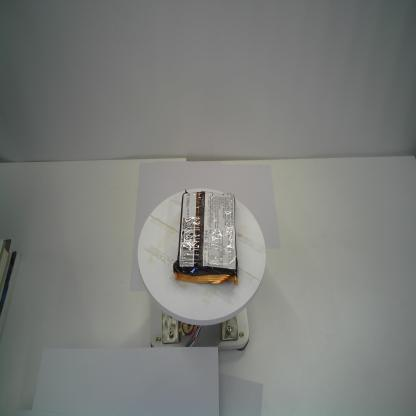Dessert: (172, 188, 238, 286)
